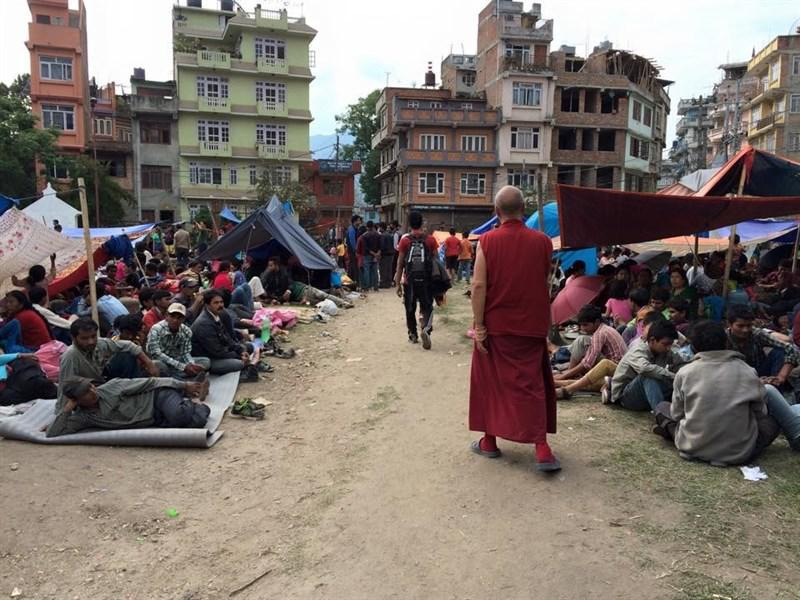affected: (360, 9, 554, 292), (166, 0, 320, 305)
major: (552, 24, 675, 204)
